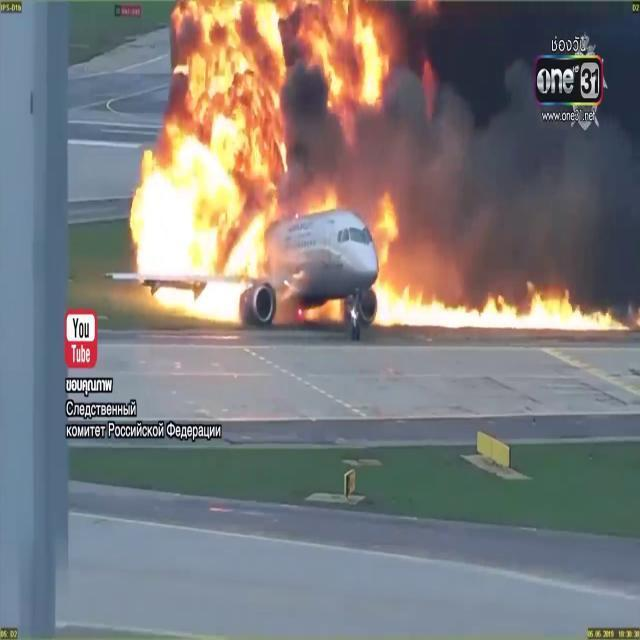Fire: (122, 1, 277, 273), (378, 282, 618, 332), (279, 0, 389, 106), (152, 280, 241, 328), (373, 194, 397, 260)
Smoke: (398, 127, 638, 279), (276, 105, 402, 193)
